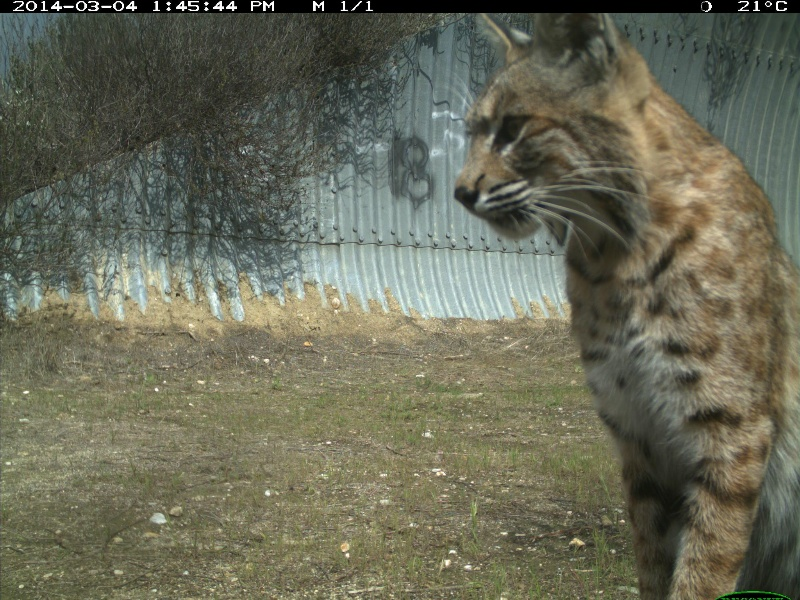cat: (453, 16, 800, 589)
